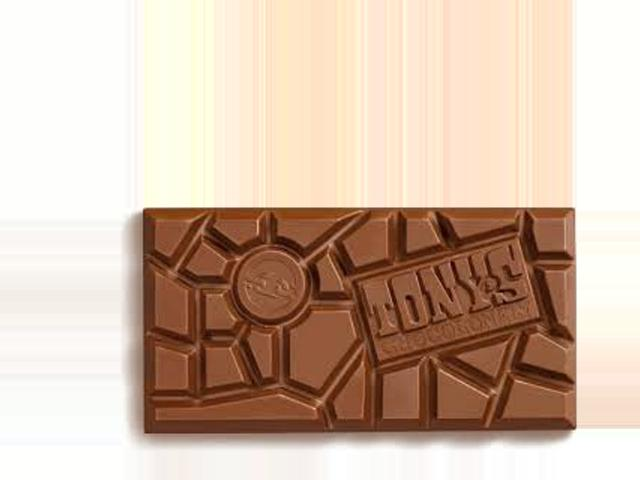chocolate: (137, 207, 578, 443)
